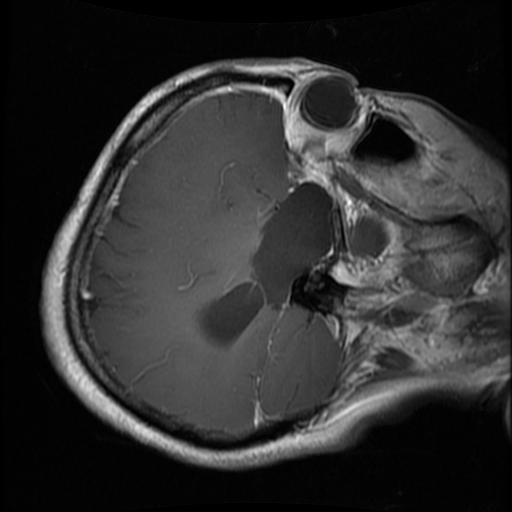glioma: (193, 181, 333, 353)
